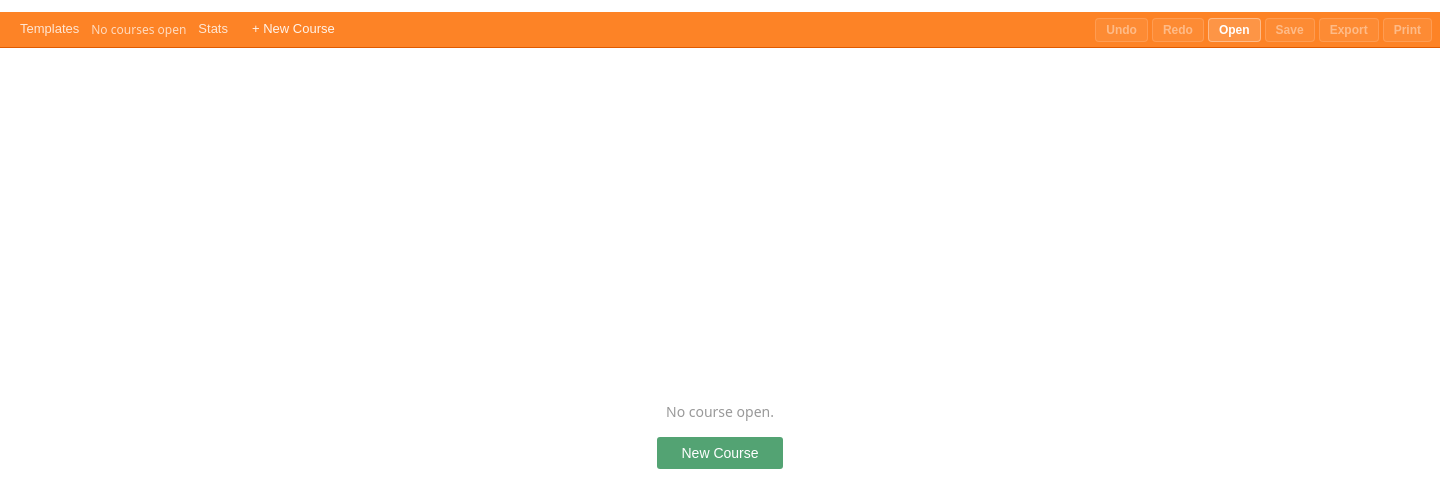
Test: App › Names tab shows numbered student name inputs after a course is opened
Click the button "Open": (1234, 30) 1208,18 -> 1261,42
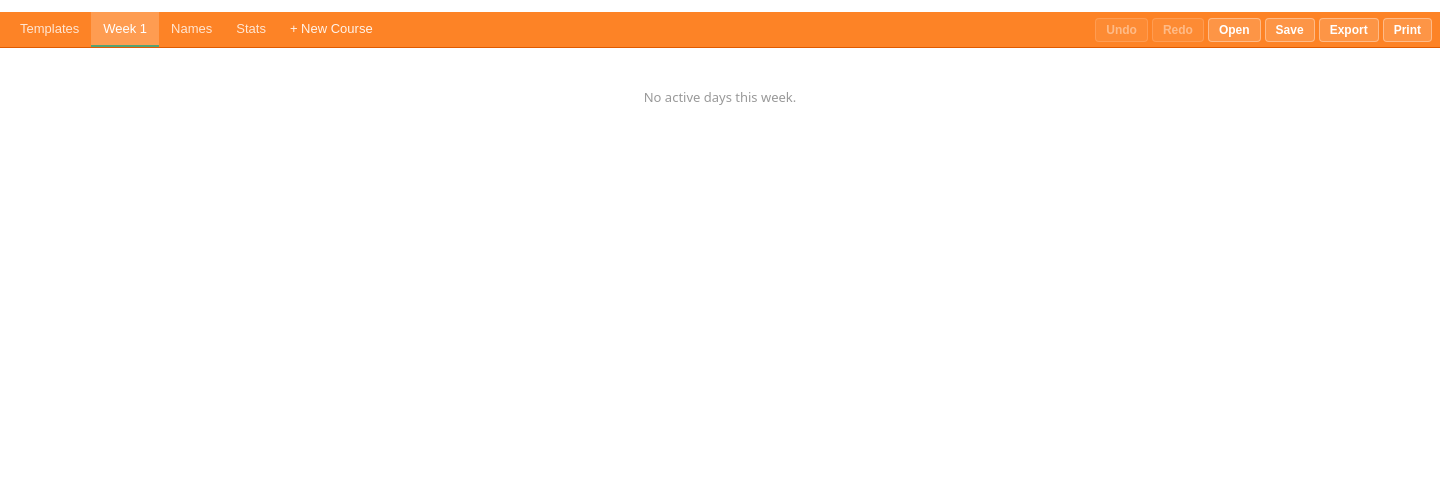
Click the tab "Names": (192, 30) 159,12 -> 224,47
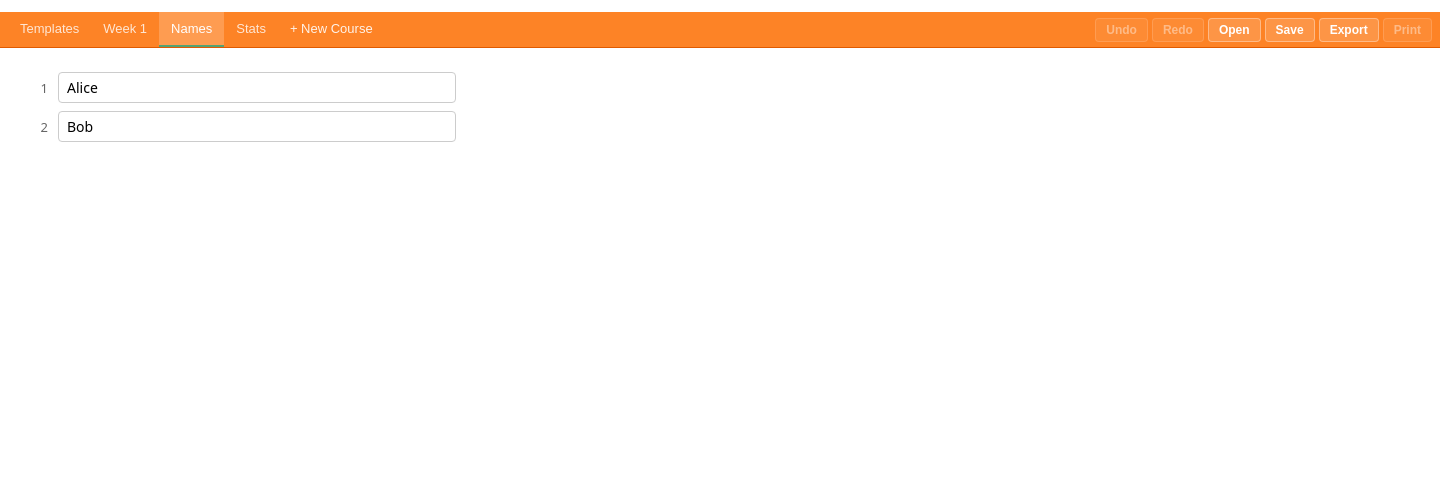
Check: the field showing "Alice" is shown, box 58,72 -> 456,103
Check: the field showing "Bob" is shown, box 58,111 -> 456,142
